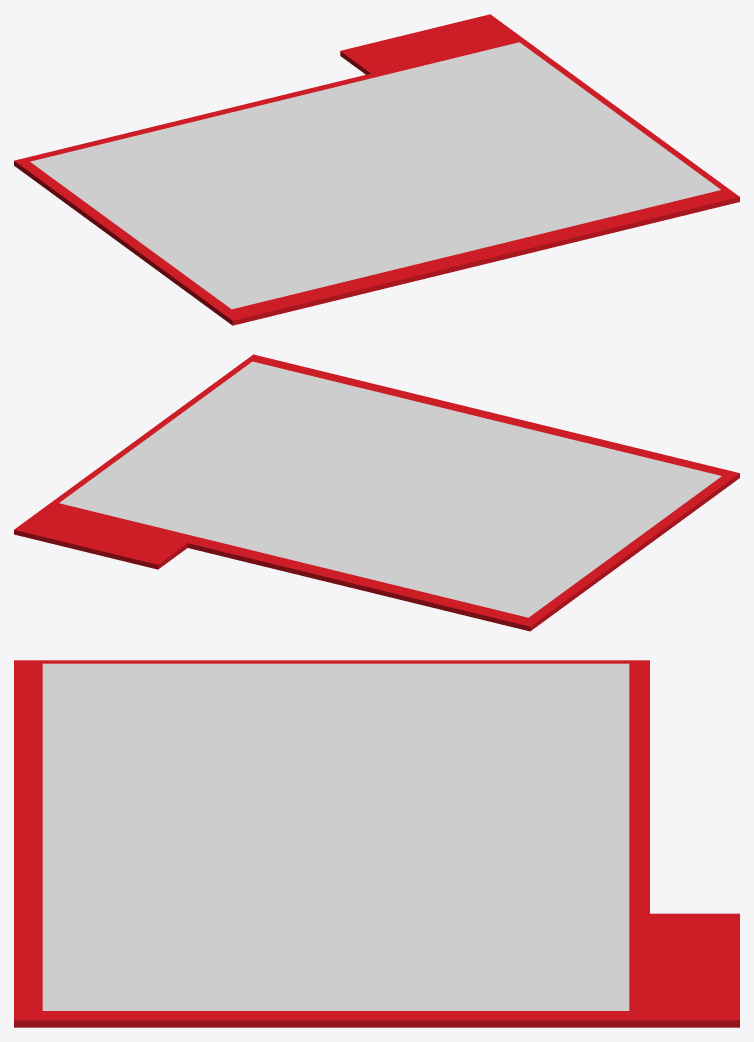
The model's file is singleFolder.fbx.
3 renders of one model, top to bottom at view 1: azimuth 30°, elevation 25°; view 2: azimuth 150°, elevation 25°; view 3: azimuth 270°, elevation 25°, orthographic. The views are drawn at different scales.
Parts seen in each view (by area): view 1: Plane.001, Plane; view 2: Plane.001, Plane; view 3: Plane.001, Plane.
Part boxes in pixels (x1,y1,x2,y2): Plane.001: (30,42,720,309); Plane: (14,14,739,325); Plane.001: (59,361,721,617); Plane: (14,354,739,631); Plane.001: (42,663,629,1010); Plane: (14,660,739,1027).
Size of the model in its own units: 200 by 2.64 by 170.
